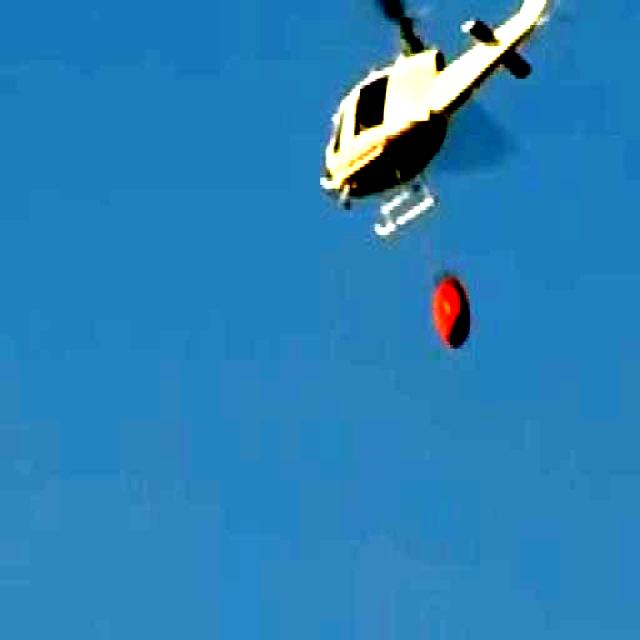drone: (289, 0, 594, 250)
